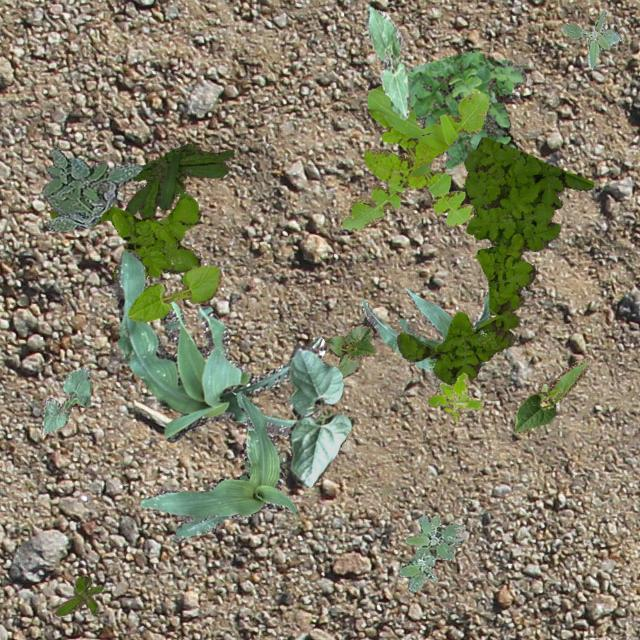crop: (114, 250, 326, 440), (140, 390, 294, 540), (359, 286, 488, 368), (284, 344, 352, 486), (512, 356, 590, 434), (128, 264, 220, 320), (364, 5, 408, 119), (38, 366, 90, 434), (324, 323, 374, 378)
weed: (396, 136, 592, 384), (339, 84, 488, 230), (406, 49, 526, 168), (50, 194, 200, 278), (41, 146, 140, 232), (124, 142, 234, 218), (398, 514, 464, 592), (560, 8, 620, 68), (427, 372, 482, 421), (54, 574, 102, 616)
